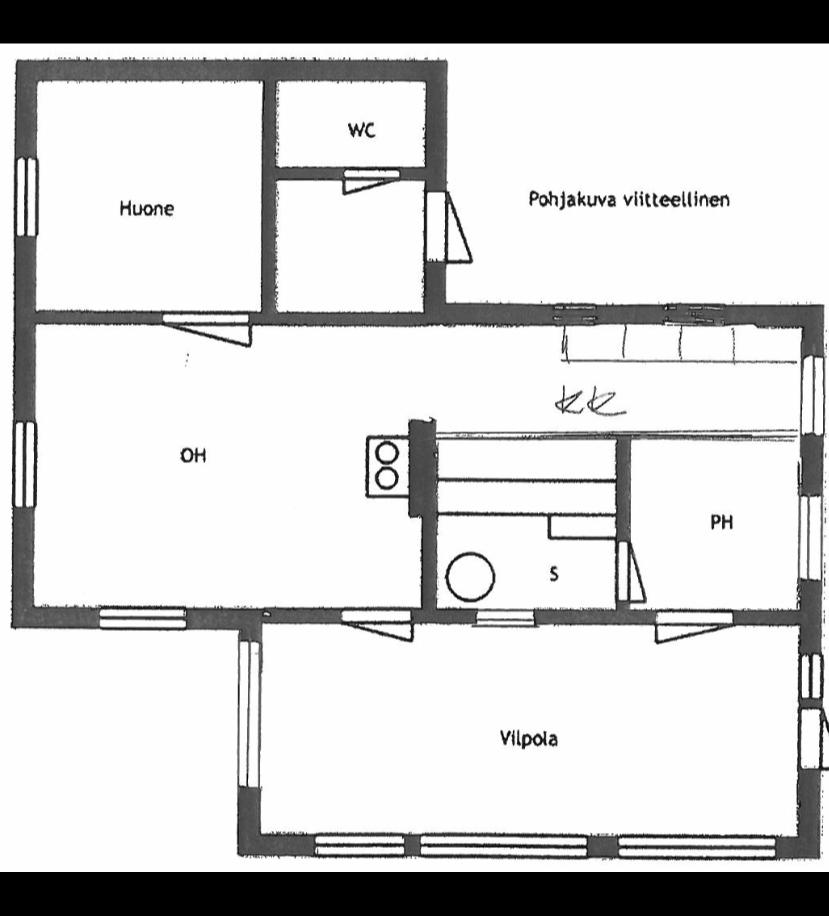bathroom: (276, 81, 428, 168)
door: (417, 192, 478, 267), (163, 310, 251, 354), (651, 607, 734, 649), (609, 540, 655, 606), (338, 608, 412, 646), (791, 705, 829, 773), (340, 164, 397, 200)
perimeter: (9, 60, 825, 856)
window: (606, 830, 791, 867), (412, 830, 598, 863), (230, 631, 266, 797), (306, 829, 409, 867), (792, 486, 829, 589), (5, 412, 41, 516), (791, 346, 828, 446), (96, 602, 198, 635), (10, 148, 43, 246), (792, 646, 826, 702), (471, 606, 540, 632)
